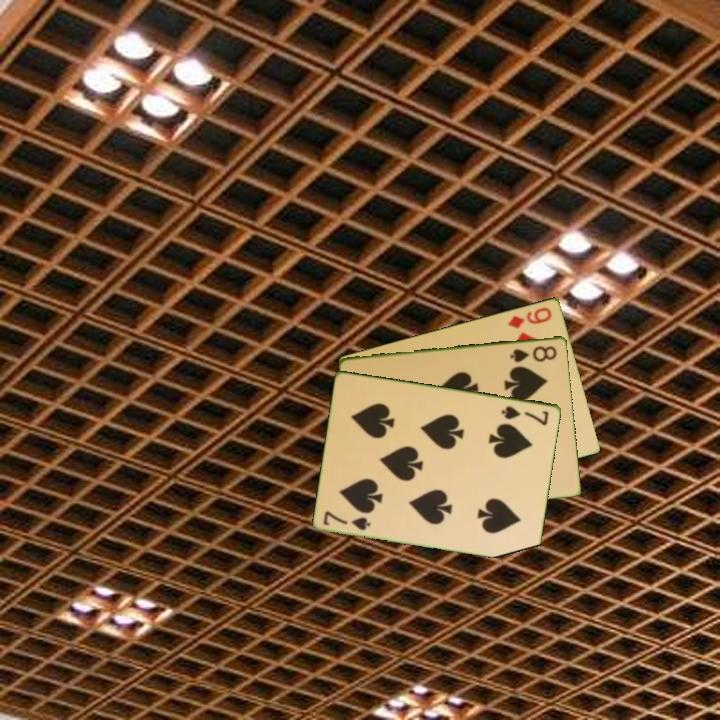7s: (498, 402, 552, 428), (320, 507, 374, 533)
8s: (507, 342, 560, 365)
9d: (504, 303, 555, 331)
